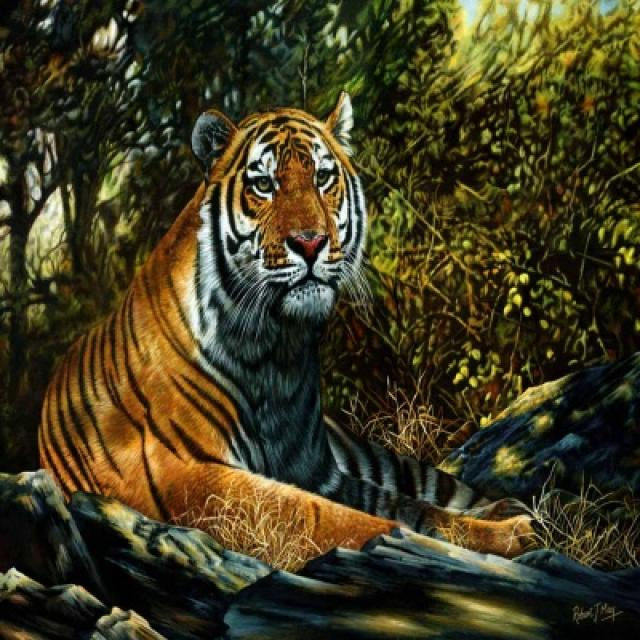Tiger: (34, 93, 539, 568)
